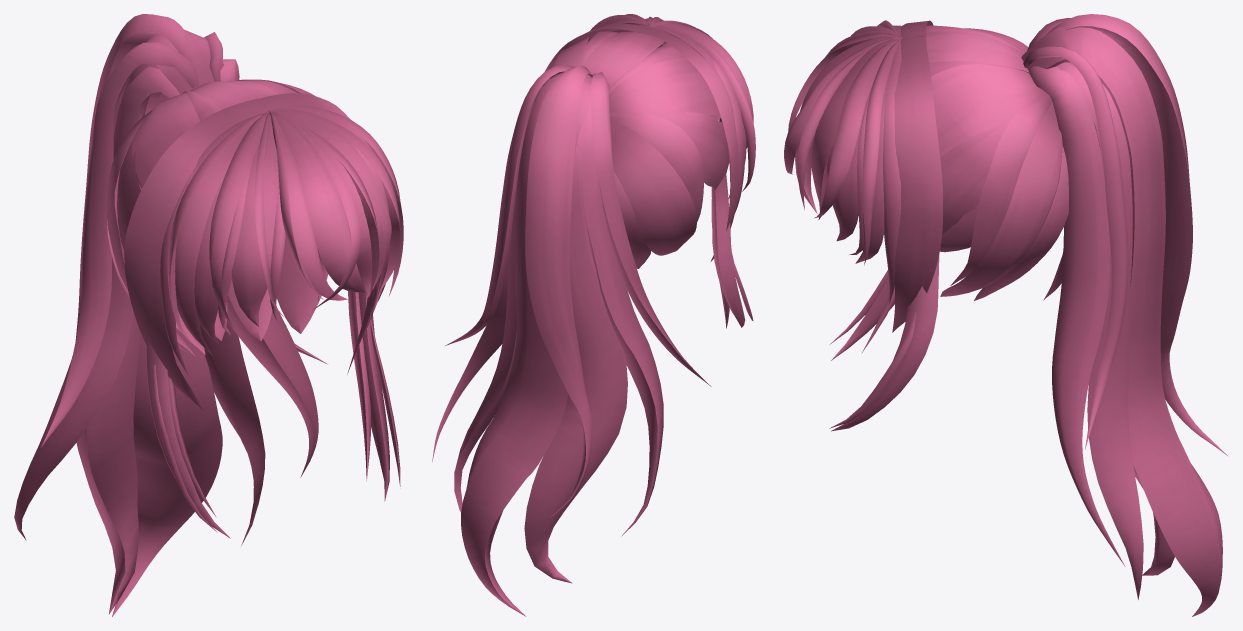
The model's file is vroid_hair_c14v2.glb.
3 views of the same model, side by side, from view 1: azimuth 30°, elevation 25°; view 2: azimuth 150°, elevation 25°; view 3: azimuth 270°, elevation 25° (orthographic). The views are drawn at different scales.
Visible parts, largest first — view 1: hair; view 2: hair; view 3: hair.
Boxes of the visible parts, x1,y1,x2,y2 form: hair: (14, 14, 403, 616); hair: (432, 14, 755, 616); hair: (784, 14, 1228, 616).
Size of the model in its own units: 0.2787 by 0.5499 by 0.3691.
1 material, 1 textured.
